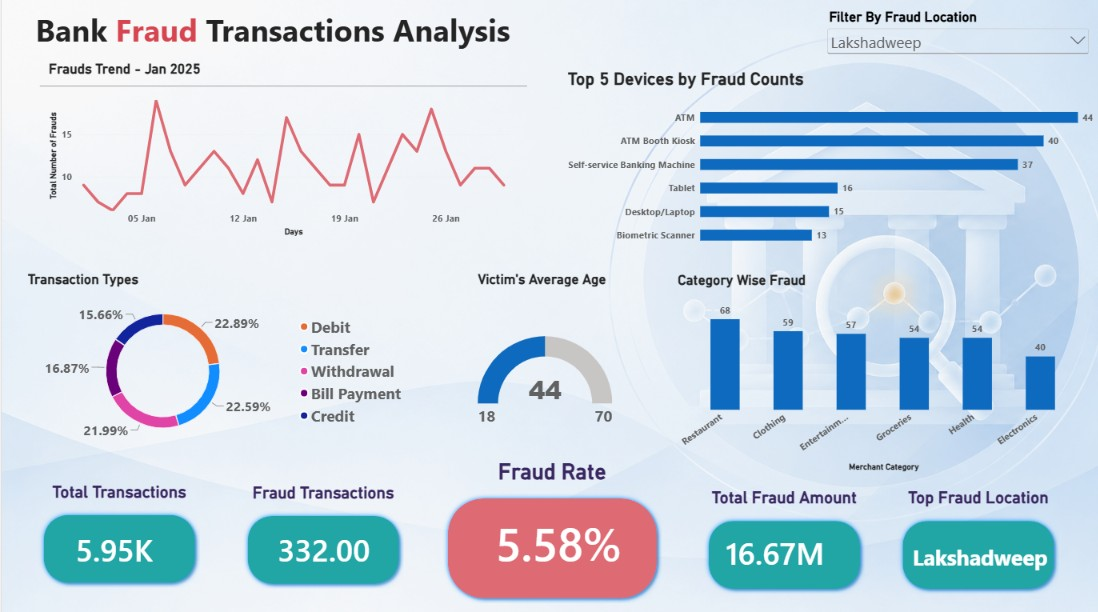

This screenshot's page, from the dashboard's own definition file:
{"tool":"powerbi","page":{"name":"Page 1","canvas":[1920,1080],"ordinal":0},"visuals":[{"type":"shape","title":"Total Transactions","box":[65.2,845.7,281.7,185],"z":0},{"type":"textbox","box":[60,21.7,856.7,76.7],"z":1000},{"type":"shape","title":"Fraud Transactions","box":[419.6,847.8,281.7,185],"z":2000},{"type":"shape","title":"Fraud Rate","box":[769.6,806.5,382.6,252.2],"z":3000},{"type":"shape","title":"Total Fraud Amount","box":[1223.9,856.5,281.7,185],"z":4000},{"type":"cardVisual","fields":{"Data":["bankdb transactions.Fraud %"]},"box":[845.7,882.6,306.5,134.8],"z":6000},{"type":"cardVisual","fields":{"Data":["bankdb transactions.Total customers"]},"box":[89.1,895.7,258.7,134.8],"z":7000},{"type":"cardVisual","fields":{"Data":["bankdb transactions.Total Victim Customers"]},"box":[465.2,895.7,237,134.8],"z":8000},{"type":"lineChart","title":"Frauds Trend - Jan 2025","fields":{"Category":["bankdb transactions.transaction_date"],"Y":["Sum(bankdb transactions.is_fraud)"]},"box":[65.9,97.9,850.7,334.6],"z":10000},{"type":"donutChart","title":"Transaction Types","fields":{"Category":["bankdb transactions.transaction_type"],"Y":["Sum(bankdb transactions.is_fraud)"]},"box":[29.7,464,692.4,334.9],"z":11000},{"type":"slicer","fields":{"Values":["bankdb transactions.state"]},"box":[1436,20.9,465.7,105],"z":12000},{"type":"gauge","title":"Victim''s Average Age","fields":{"MaxValue":["Max(bankdb transactions.age)1"],"MinValue":["Min(bankdb transactions.age)"],"Y":["Median(bankdb transactions.age)"]},"box":[814.5,464,266.7,376.7],"z":13000},{"type":"columnChart","title":"Category Wise Fraud","fields":{"Category":["bankdb transactions.merchant_category"],"Y":["Sum(bankdb transactions.is_fraud)"]},"box":[1164,466,738,378],"z":14000},{"type":"clusteredBarChart","title":"Top 5 Devices by Fraud Counts","fields":{"Category":["bankdb transactions.transaction_device"],"Y":["Sum(bankdb transactions.is_fraud)"]},"box":[971.5,111.6,948.8,347.1],"z":15000},{"type":"cardVisual","fields":{"Data":["bankdb transactions.total fraud amount"]},"box":[1247.8,932.6,250,71.7],"z":16000},{"type":"shape","title":"Top Fraud Location","box":[1563,856.5,281.7,185],"z":17000},{"type":"textbox","box":[1589.1,932.6,278.3,97.8],"z":18000}]}

Visuals, with their boxes in screenshot pixels (x1, y1, x2, y2), scaled from the page's 1920x1080 canvas onto the 1098x612 screenshot:
"Total Transactions" shape: {"left": 37, "top": 479, "right": 198, "bottom": 584}
textbox: {"left": 34, "top": 12, "right": 524, "bottom": 56}
"Fraud Transactions" shape: {"left": 240, "top": 480, "right": 401, "bottom": 585}
"Fraud Rate" shape: {"left": 440, "top": 457, "right": 659, "bottom": 600}
"Total Fraud Amount" shape: {"left": 700, "top": 485, "right": 861, "bottom": 590}
cardVisual - bankdb transactions.Fraud %: {"left": 484, "top": 500, "right": 659, "bottom": 577}
cardVisual - bankdb transactions.Total customers: {"left": 51, "top": 508, "right": 199, "bottom": 584}
cardVisual - bankdb transactions.Total Victim Customers: {"left": 266, "top": 508, "right": 402, "bottom": 584}
"Frauds Trend - Jan 2025" lineChart: {"left": 38, "top": 55, "right": 524, "bottom": 245}
"Transaction Types" donutChart: {"left": 17, "top": 263, "right": 413, "bottom": 453}
slicer - bankdb transactions.state: {"left": 821, "top": 12, "right": 1088, "bottom": 71}
"Victim''s Average Age" gauge: {"left": 466, "top": 263, "right": 618, "bottom": 476}
"Category Wise Fraud" columnChart: {"left": 666, "top": 264, "right": 1088, "bottom": 478}
"Top 5 Devices by Fraud Counts" clusteredBarChart: {"left": 556, "top": 63, "right": 1097, "bottom": 260}
cardVisual - bankdb transactions.total fraud amount: {"left": 714, "top": 528, "right": 857, "bottom": 569}
"Top Fraud Location" shape: {"left": 894, "top": 485, "right": 1055, "bottom": 590}
textbox: {"left": 909, "top": 528, "right": 1068, "bottom": 584}
